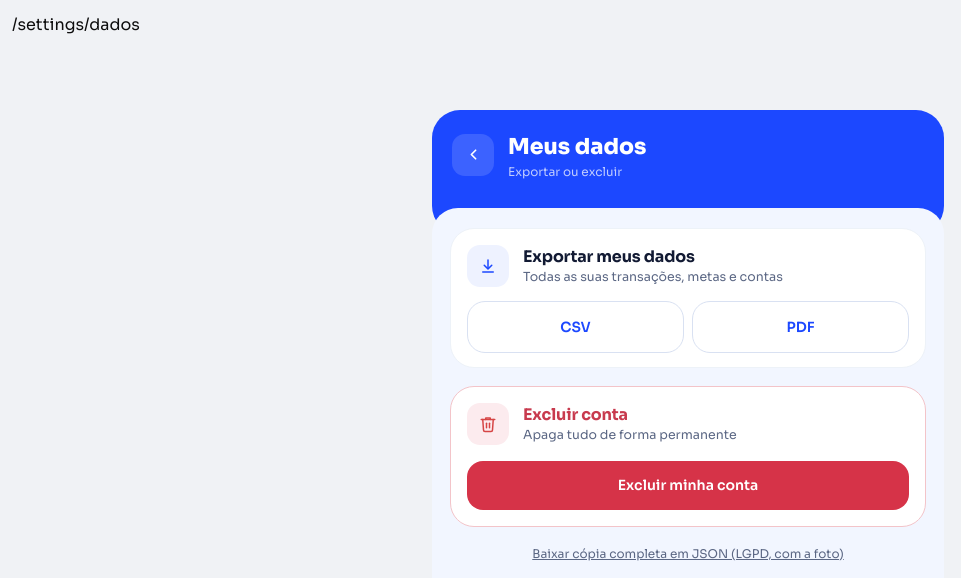
Test: Meus dados — exportar › enquanto gera, os botões ficam desligados, mostram "Gerando…" e um segundo toque não pede de novo
Click the button "PDF". click: click(800, 327)
box: [692,301,909,353]
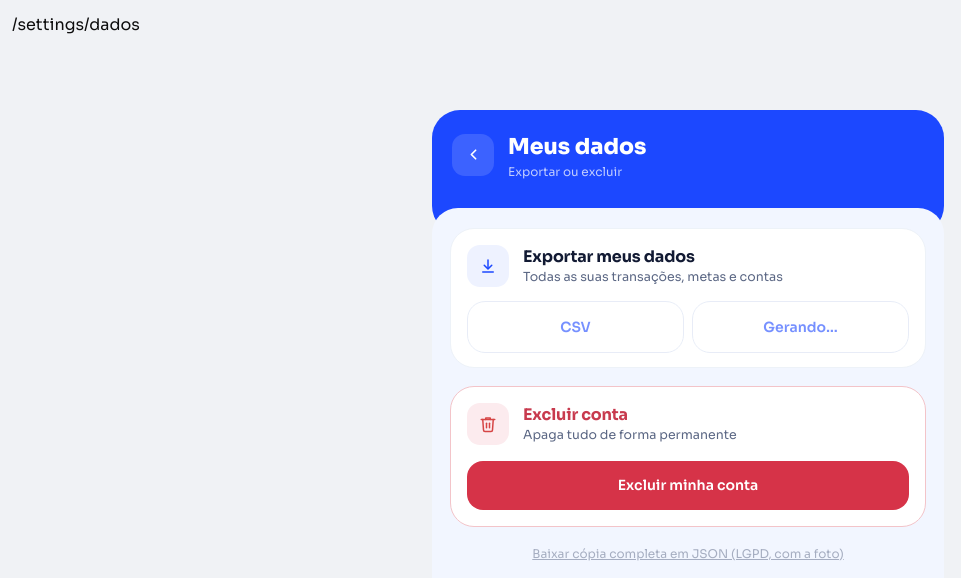
expect the button "Gerando…" is disabled: met, box [692,301,909,353]
expect the button "CSV" is disabled: met
Click the button "CSV". click: click(576, 327)
box: [467,301,684,353]
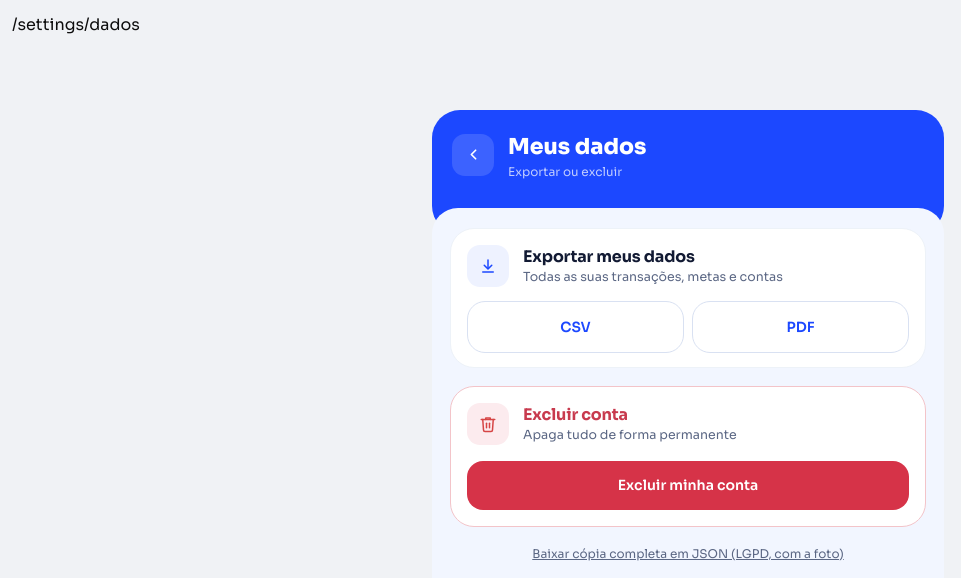
expect the button "CSV" is enabled: met, box [467,301,684,353]
